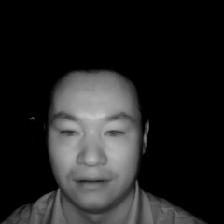normal: (37, 58, 155, 212)
